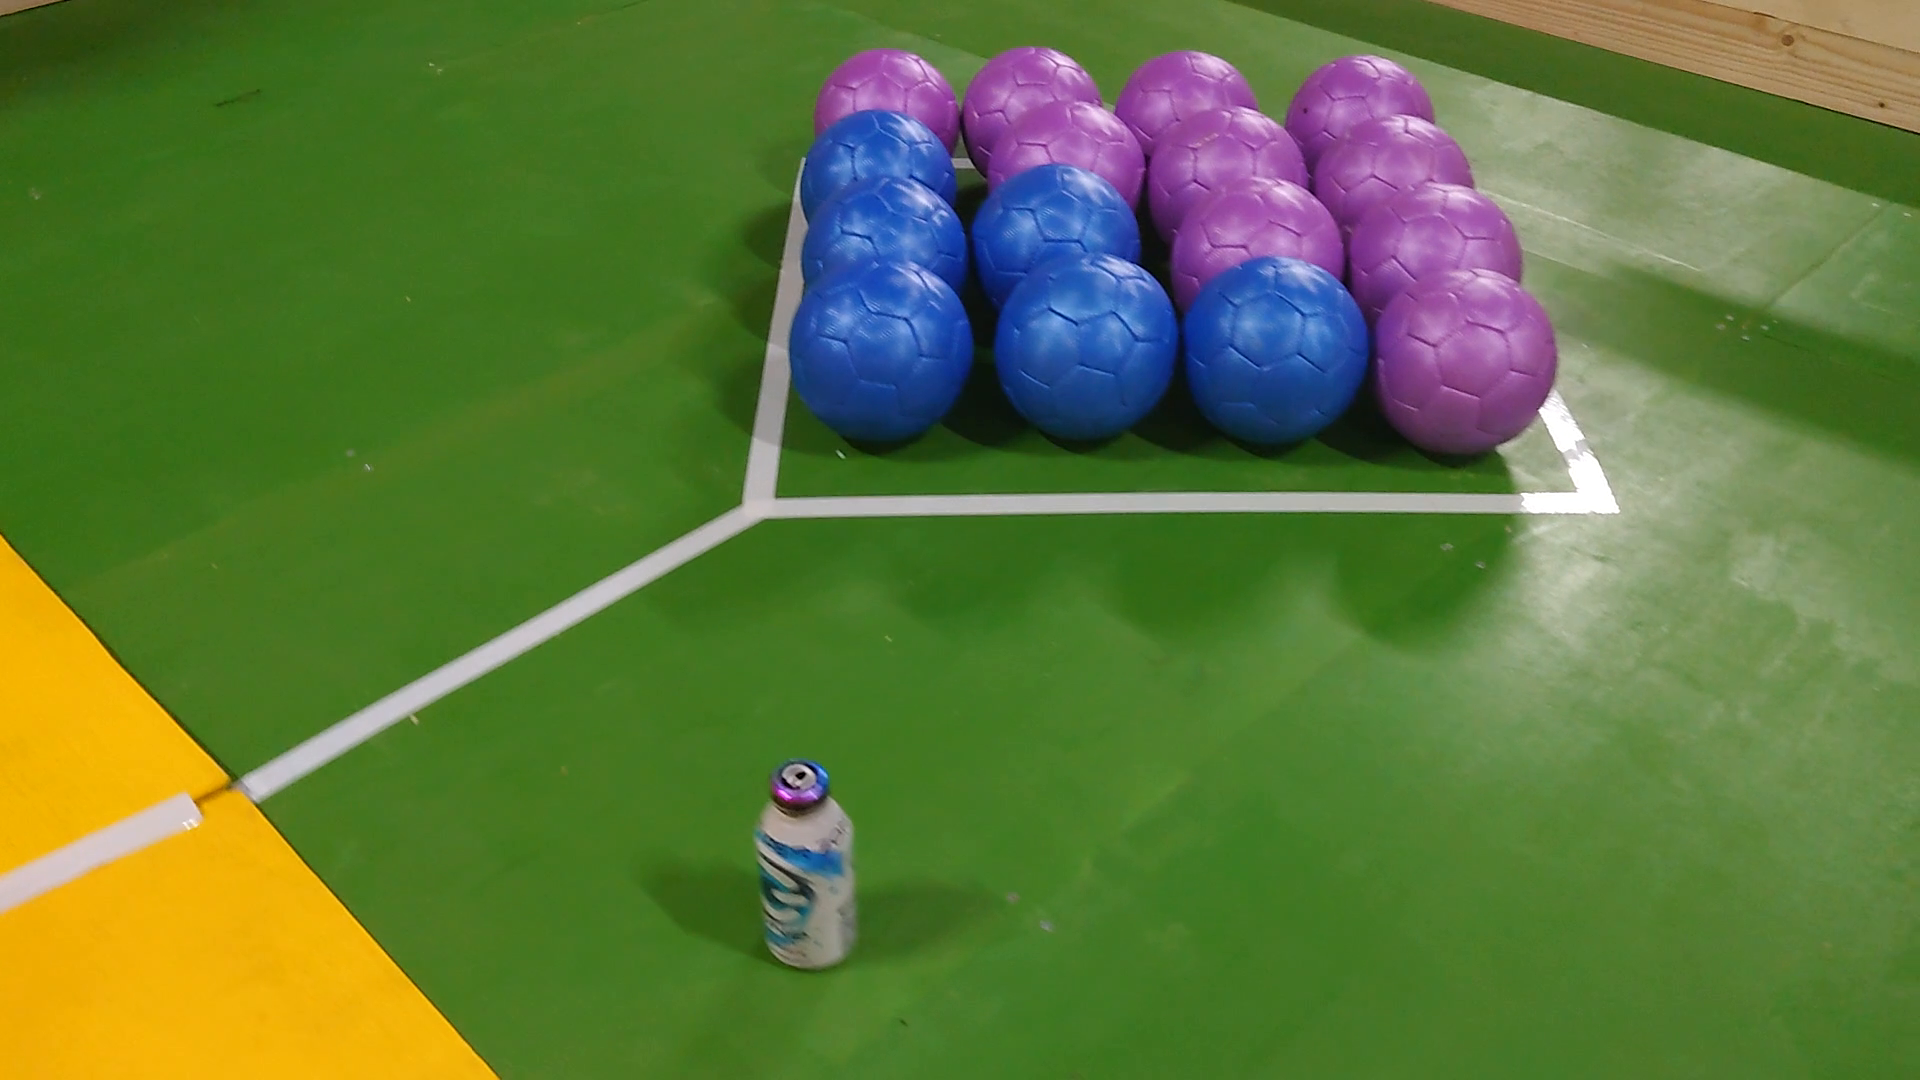blue: (1179, 258, 1371, 447), (783, 258, 973, 444), (993, 252, 1175, 444), (973, 164, 1143, 287), (803, 177, 973, 281), (796, 104, 960, 212)
purple: (1378, 265, 1561, 458), (1168, 177, 1345, 297), (1352, 179, 1522, 301), (1316, 117, 1480, 222), (986, 98, 1143, 206), (1150, 104, 1305, 212), (1287, 53, 1437, 157), (816, 46, 957, 150), (963, 46, 1100, 146), (1113, 53, 1261, 140)
